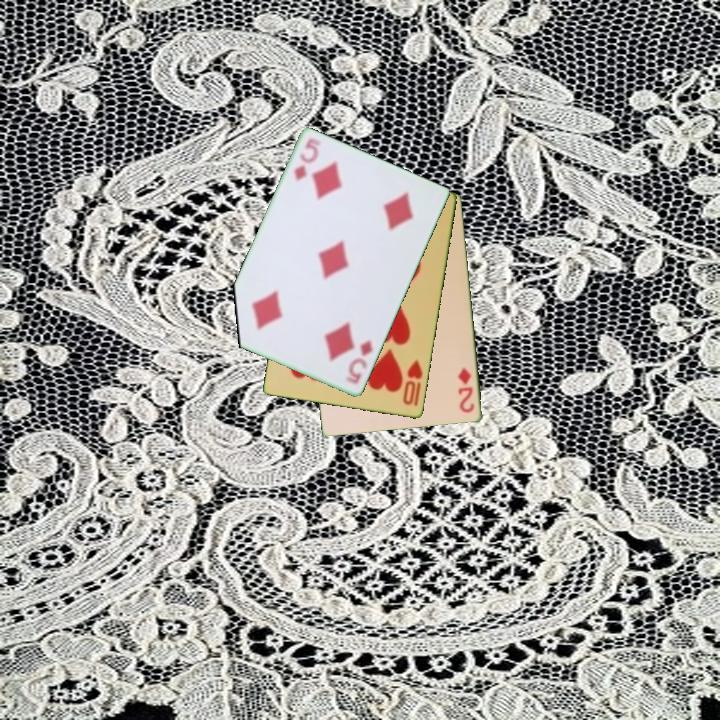10h: (400, 356, 426, 408)
2d: (455, 364, 478, 416)
5d: (343, 336, 376, 387), (290, 135, 324, 184)
